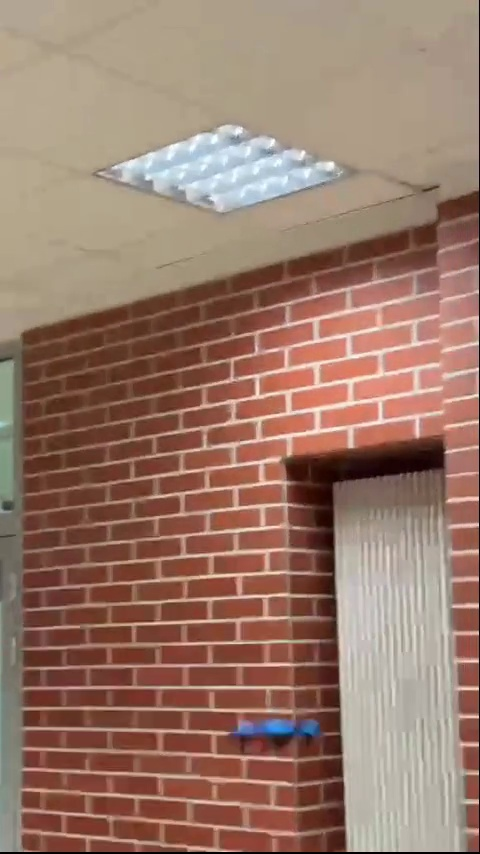drone: (234, 722, 331, 744)
